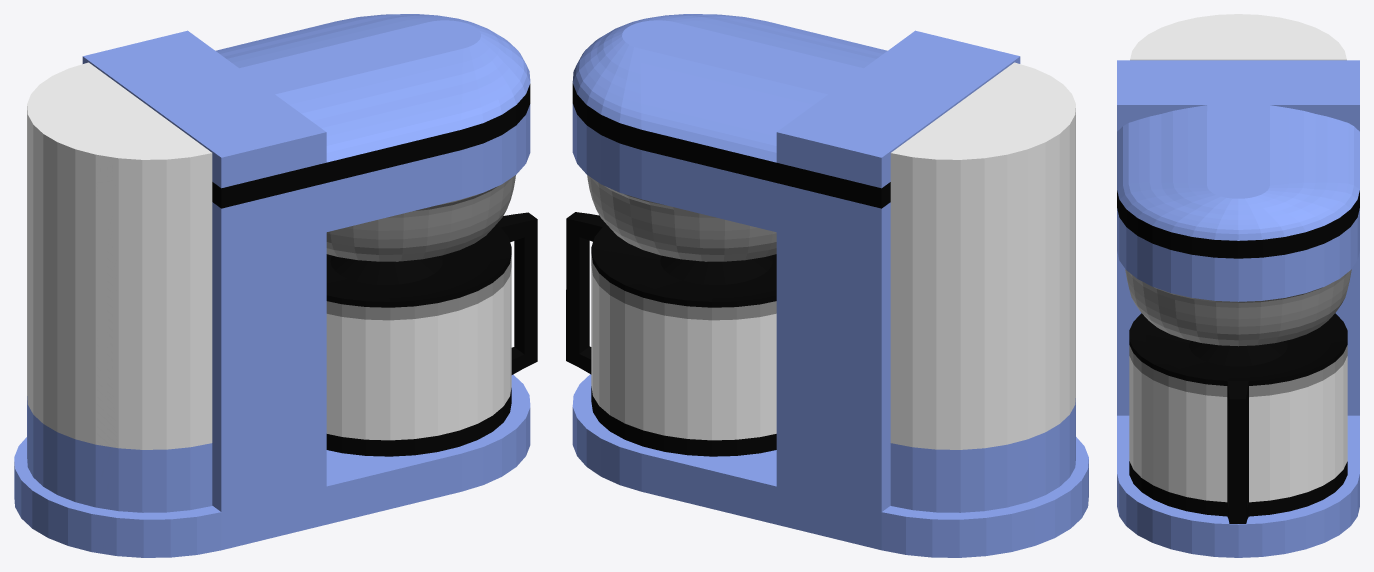
File: Senseo.glb
3 renders of one model, left to right at view 1: azimuth 30°, elevation 25°; view 2: azimuth 150°, elevation 25°; view 3: azimuth 270°, elevation 25°, orthographic. The views are drawn at different scales.
Visible parts, largest first — view 1: Cafetière, Récipient, Carafe; view 2: Cafetière, Récipient, Carafe; view 3: Cafetière, Carafe, Récipient.
Boxes of the visible parts, x1=… form: Cafetière: x1=14, y1=14, x2=530, y2=557; Récipient: x1=27, y1=62, x2=212, y2=512; Carafe: x1=326, y1=212, x2=537, y2=456; Cafetière: x1=572, y1=14, x2=1088, y2=557; Récipient: x1=890, y1=62, x2=1075, y2=512; Carafe: x1=566, y1=212, x2=776, y2=456; Cafetière: x1=1117, y1=60, x2=1359, y2=557; Carafe: x1=1129, y1=313, x2=1347, y2=523; Récipient: x1=1130, y1=14, x2=1346, y2=60.
Bounding box in the file's own units: 4.17 × 3.12 × 2.
